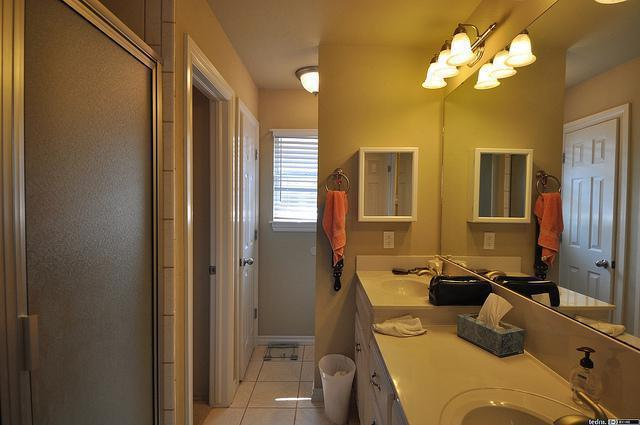Bote de Basura: (310, 351, 362, 422)
Ducha: (0, 21, 161, 424)
Lavamanos: (425, 366, 633, 424), (367, 255, 467, 302)
